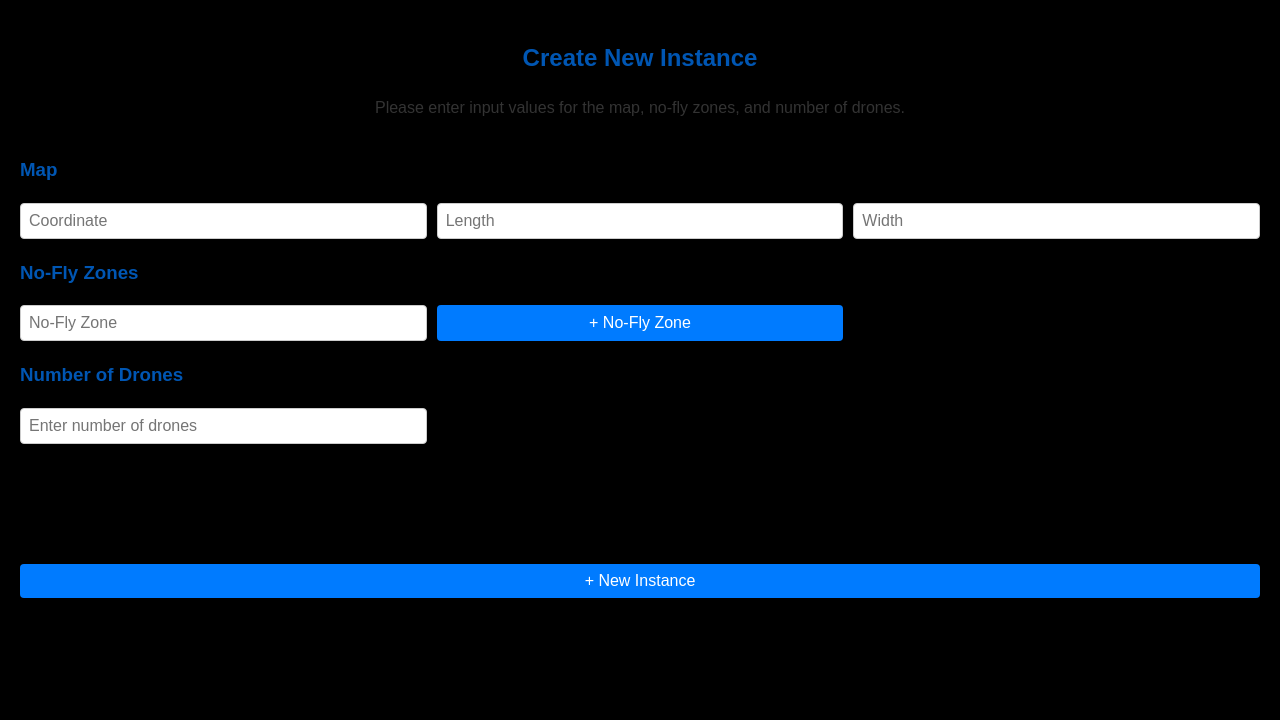
Scenario: adds a new no-fly zone when button is clicked
expect the number of fields with placeholder "No-Fly Zone" is 1: met, box [20, 305, 427, 341]
Click the button "+ No-Fly Zone" at (640, 323), box [437, 305, 843, 341]
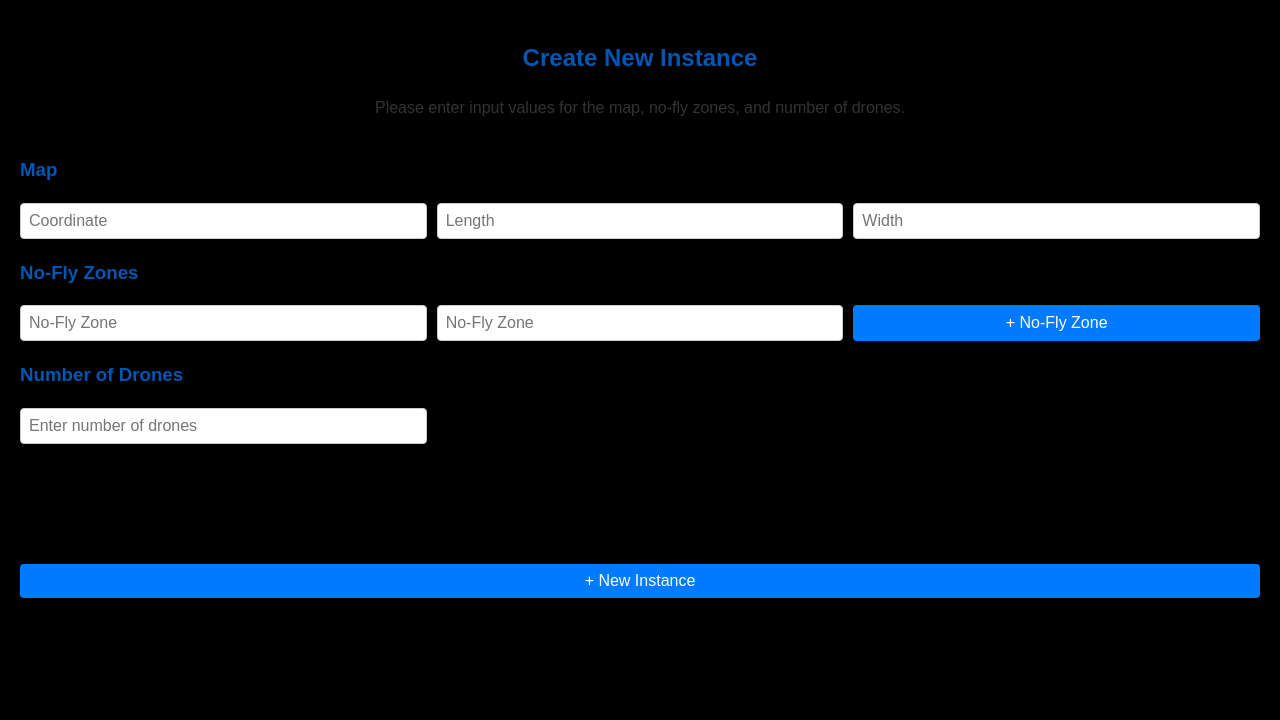
expect the number of fields with placeholder "No-Fly Zone" is 2: met, box [20, 305, 427, 341]; [437, 305, 843, 341]
